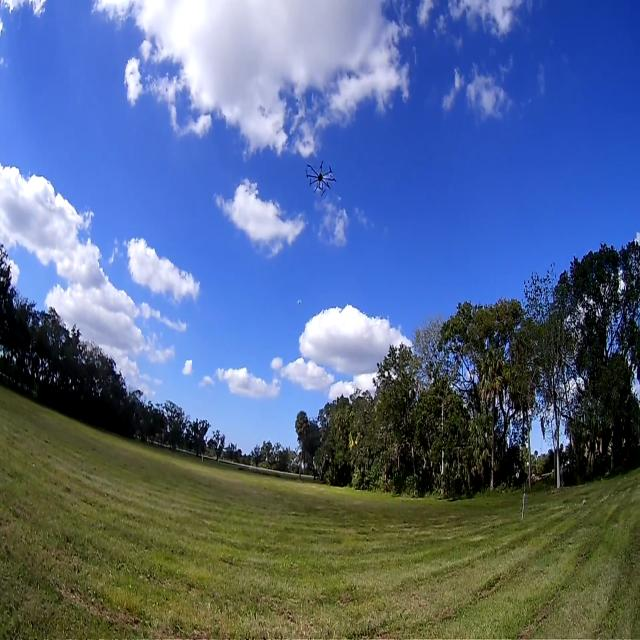drone: (286, 144, 350, 203)
